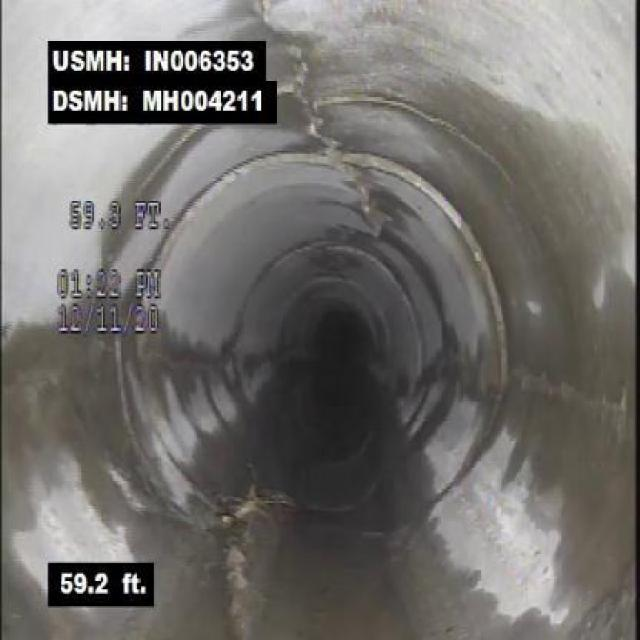Buckling: (181, 483, 294, 639), (302, 105, 420, 243)
